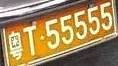T: (23, 25, 36, 56)
